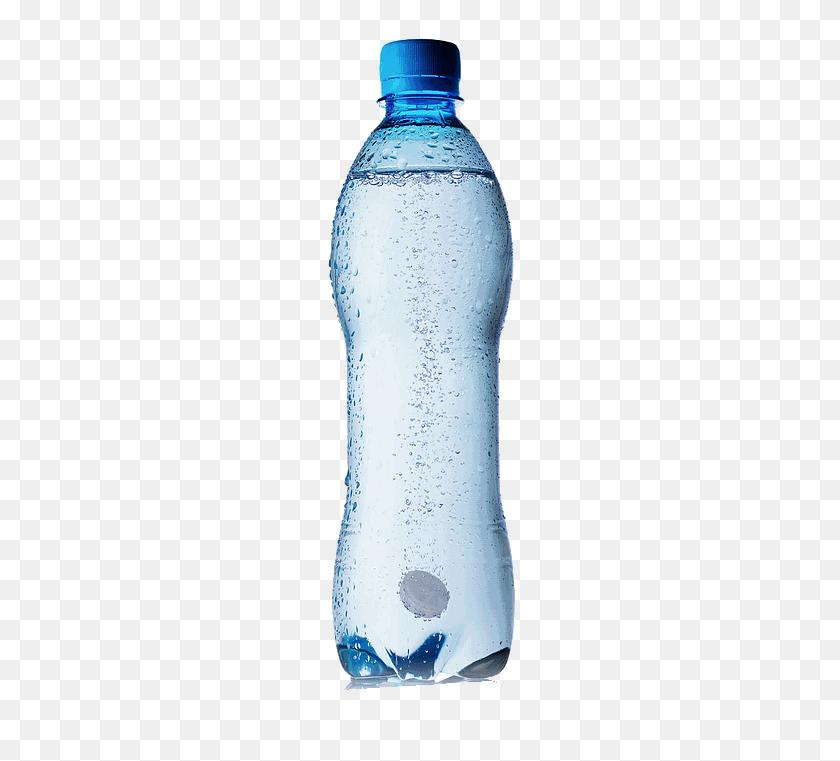bottle: (0, 2, 529, 698)
